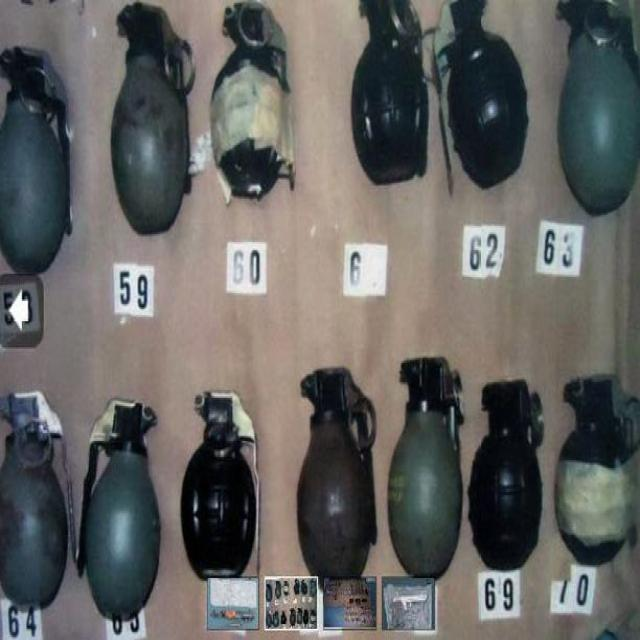grenade: (109, 1, 195, 241), (76, 397, 162, 619), (555, 1, 640, 219), (434, 1, 530, 194), (1, 42, 76, 281), (387, 359, 466, 582), (210, 3, 296, 203), (1, 392, 78, 612), (554, 375, 640, 569), (297, 369, 376, 579), (349, 1, 432, 189), (183, 390, 262, 584), (468, 385, 546, 573)
